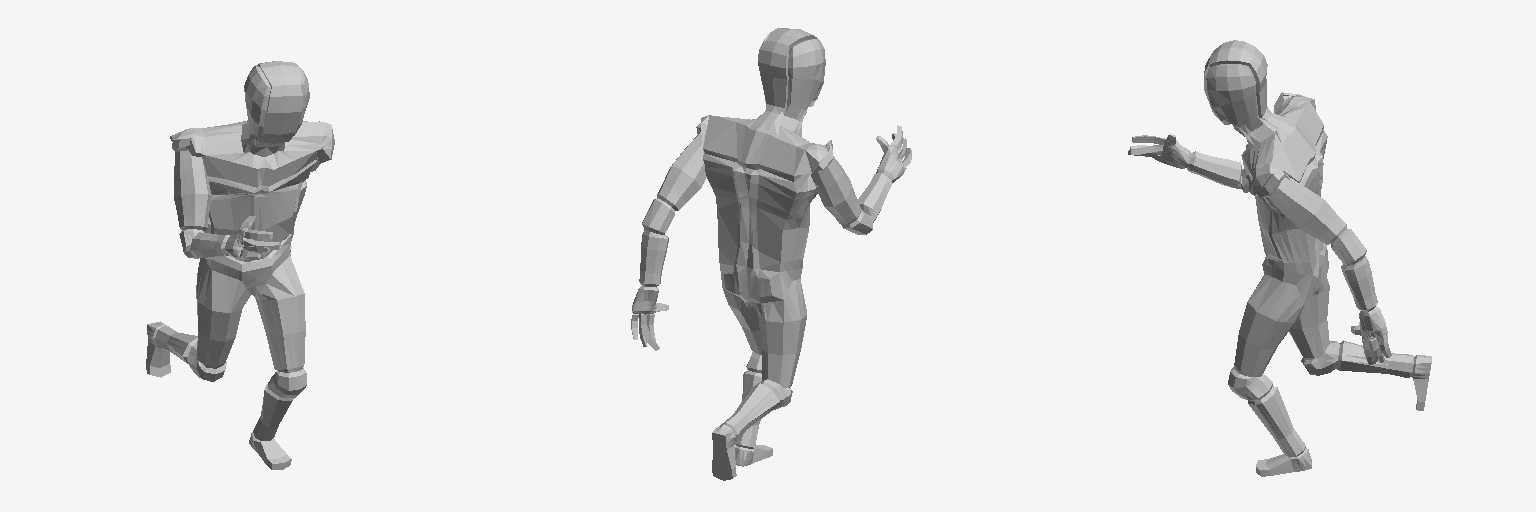
The model's file is GDW_Pyroboy02.obj.
3 renders of one model, left to right at view 1: azimuth 30°, elevation 25°; view 2: azimuth 150°, elevation 25°; view 3: azimuth 270°, elevation 25°, orthographic.
Size of the model in its own units: 4.4 by 9.89 by 6.52.